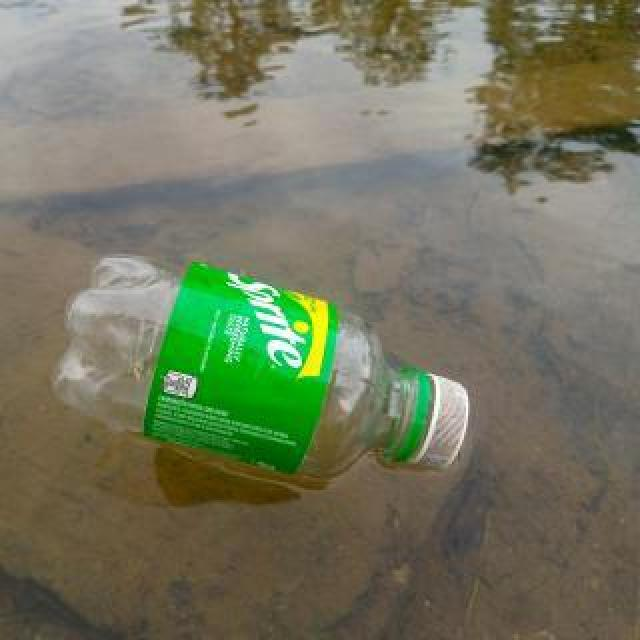bottle: (47, 249, 471, 487)
